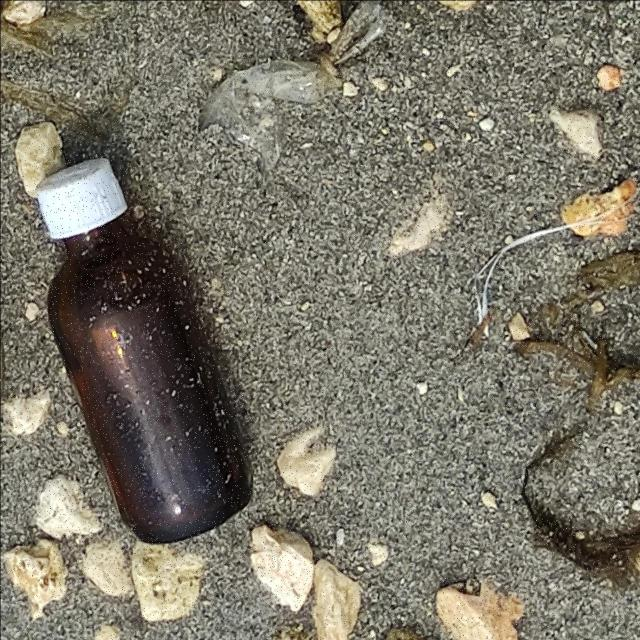glass_waste: (34, 156, 256, 547)
